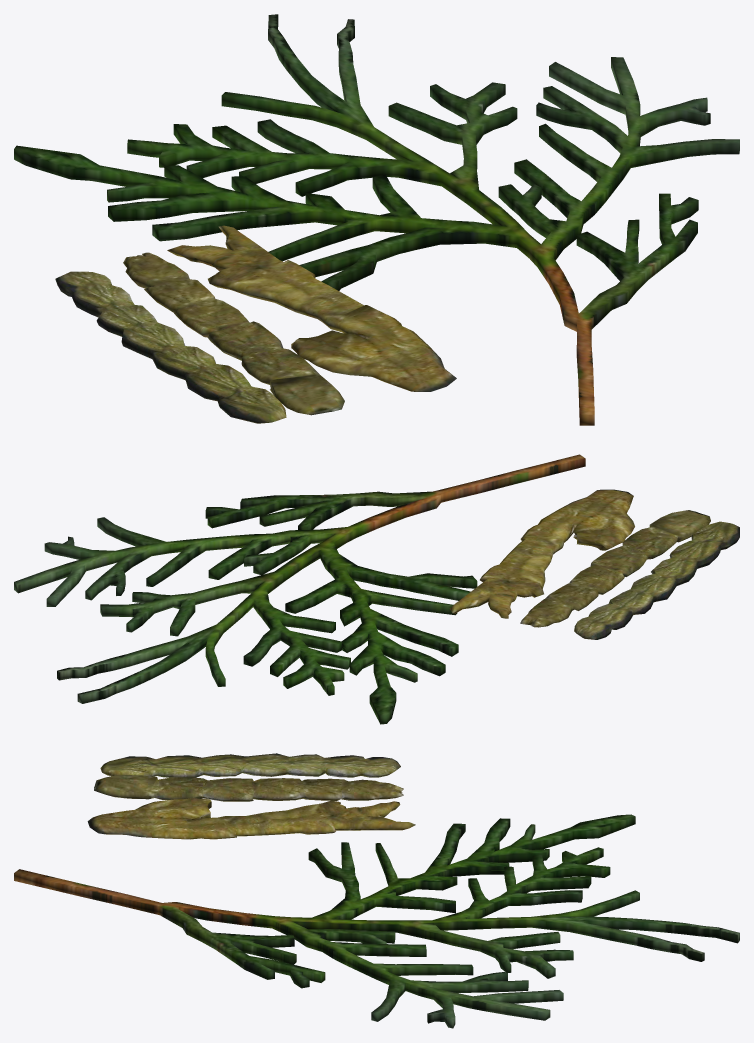
Rendered from cebaiye.FBX.
3 views of the same model, one above another, from view 1: azimuth 30°, elevation 25°; view 2: azimuth 150°, elevation 25°; view 3: azimuth 270°, elevation 25° (orthographic). The views are drawn at different scales.
Parts seen in each view (by area): view 1: Plane001, Line003, Line002, Line001; view 2: Plane001, Line003, Line002, Line001; view 3: Plane001, Line003, Line002, Line001.
Part boxes in pixels (bbox=[...]): Plane001: bbox=[14, 14, 739, 425]; Line003: bbox=[167, 225, 456, 391]; Line002: bbox=[123, 252, 344, 415]; Line001: bbox=[55, 271, 286, 423]; Plane001: bbox=[14, 454, 585, 724]; Line003: bbox=[449, 489, 634, 618]; Line002: bbox=[520, 510, 710, 627]; Line001: bbox=[574, 521, 739, 639]; Plane001: bbox=[14, 814, 739, 1028]; Line003: bbox=[87, 798, 415, 839]; Line002: bbox=[94, 775, 403, 801]; Line001: bbox=[100, 753, 400, 777].
Size of the model in its own units: 40.8 by 1.62 by 49.29.
